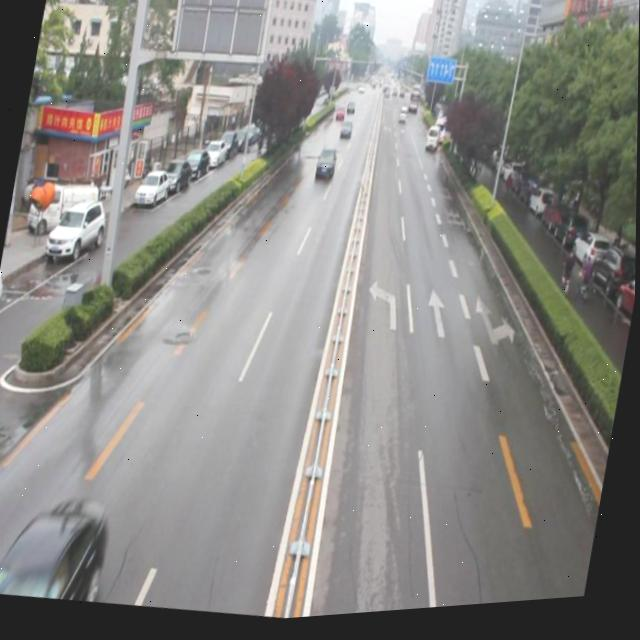car: (0, 482, 117, 610), (314, 148, 340, 183), (338, 121, 355, 147)
truck: (423, 130, 440, 159)
